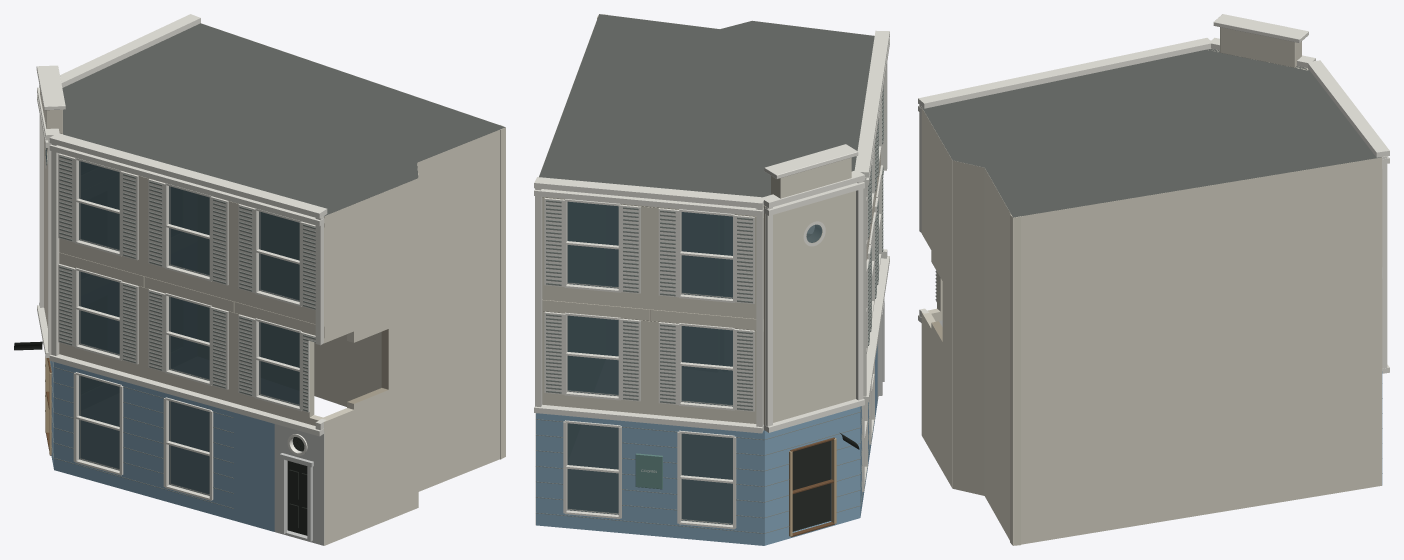
Rendered from 49l-exterior-e8523f34f43d.glb.
The picture shows the model from 3 angles, left to right: view 1: azimuth 30°, elevation 25°; view 2: azimuth 150°, elevation 25°; view 3: azimuth 270°, elevation 25°; orthographic projection. The views are drawn at different scales.
Parts seen in each view (by area): view 1: 49L.001; view 2: 49L.001; view 3: 49L.001.
Part boxes in pixels (box(x1,y1,x2,y2)): 49L.001: box(14, 14, 505, 545); 49L.001: box(534, 14, 889, 545); 49L.001: box(918, 14, 1389, 545).
Bounding box in the file's own units: 12.79 × 11.91 × 14.2.
